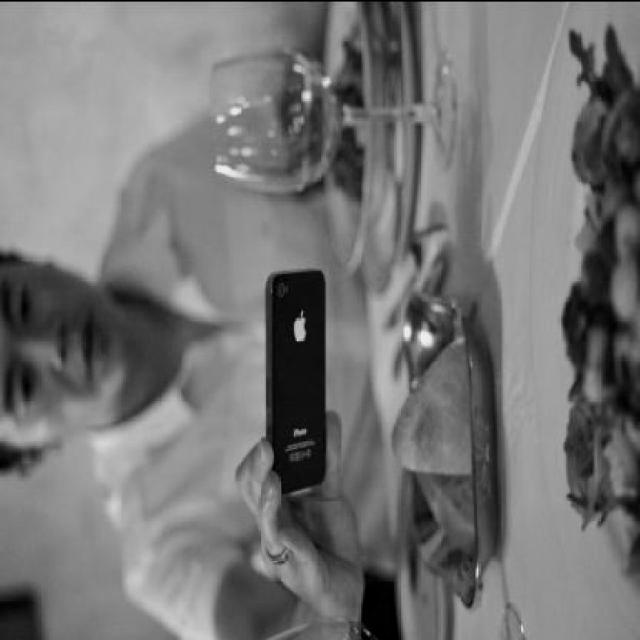fake: (250, 292, 339, 514)
